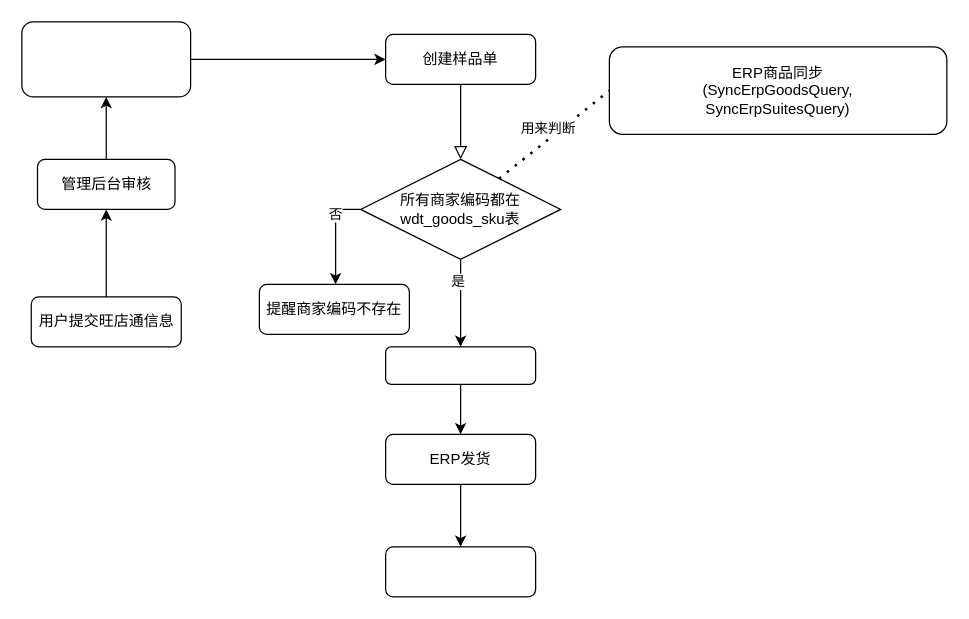
Image size: 969x619. Some labels were removed from this diagram. The centre of each missing label's shape, as x and y in pixels:
ERP物流同步 （SyncErpLogistics）: the point at 460,571
同步样品单到ERP: the point at 460,365
旺店通绑定成功 立即进行ERP商品同步: the point at 106,59
